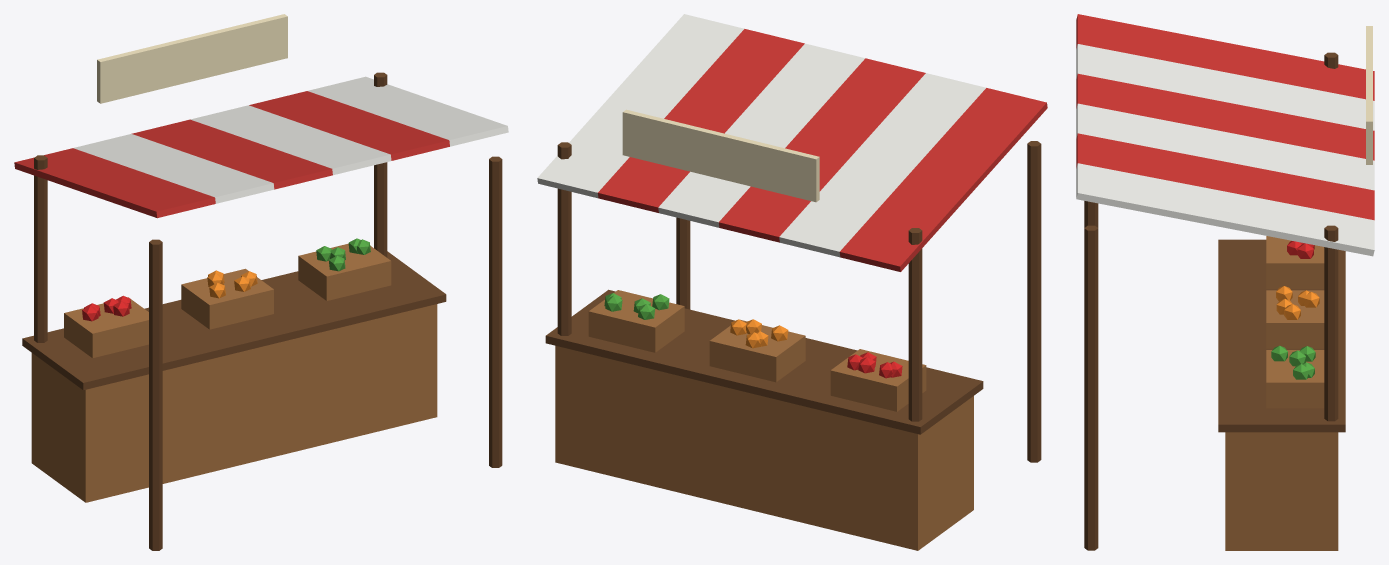
The model's file is Market_Stall.fbx.
The picture shows the model from 3 angles, left to right: view 1: azimuth 30°, elevation 25°; view 2: azimuth 150°, elevation 25°; view 3: azimuth 270°, elevation 25°; orthographic projection. The views are drawn at different scales.
Parts seen in each view (by area): view 1: Market_Stall; view 2: Market_Stall; view 3: Market_Stall.
Boxes of the visible parts, x1,y1,x2,y2 form: Market_Stall: (14, 14, 508, 550); Market_Stall: (537, 14, 1047, 550); Market_Stall: (1076, 14, 1374, 550).
Size of the model in its own units: 3.1 by 3.03 by 2.11.
